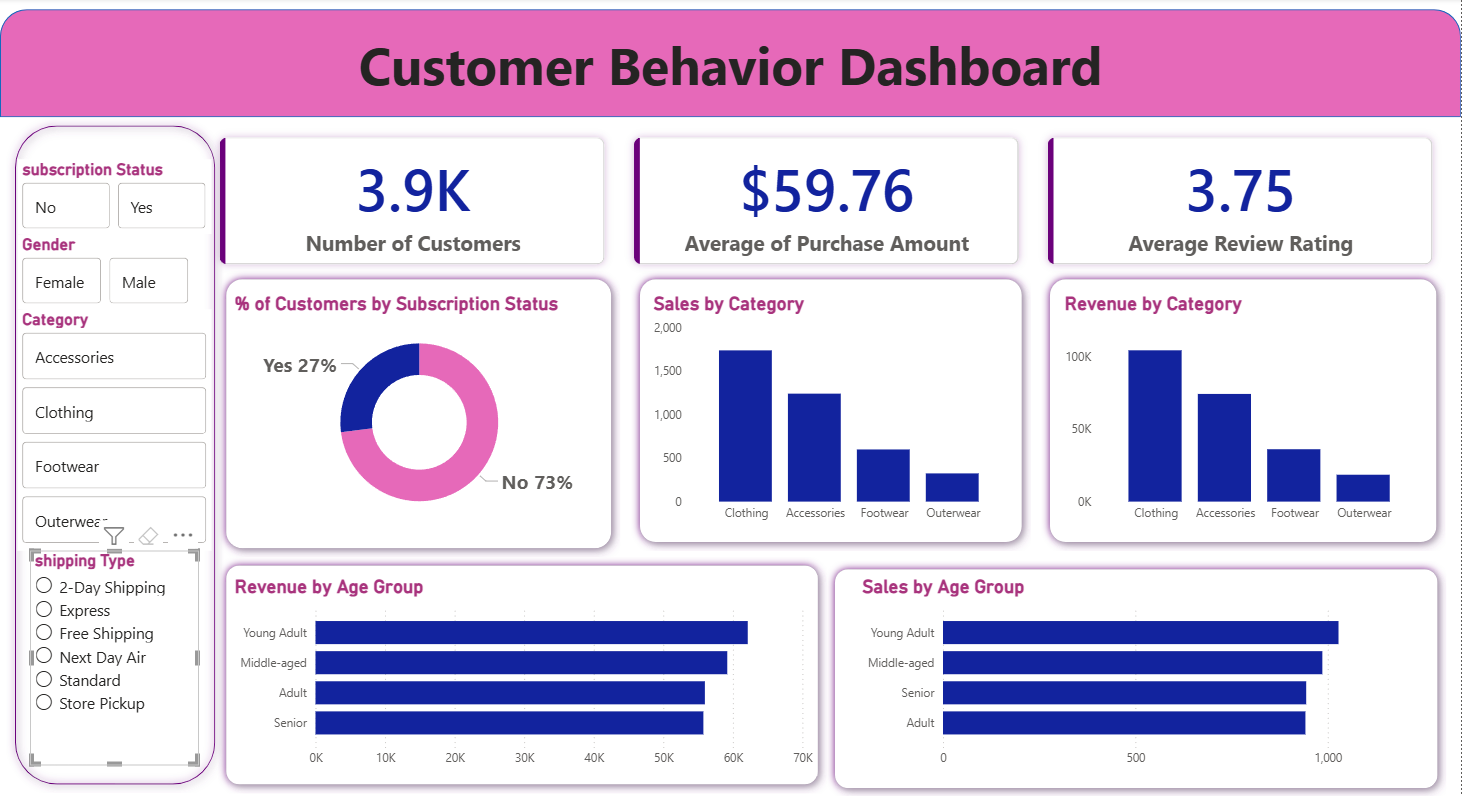

This screenshot's page, from the dashboard's own definition file:
{"tool":"powerbi","page":{"name":"Page 1","canvas":[1500,820],"ordinal":0},"visuals":[{"type":"cardVisual","fields":{"Data":["customer.Number of Customers","customer.Average of Purchase Amount","customer.Average Review Rating"]},"box":[197.8,115.8,1302.5,186.5],"z":0},{"type":"shape","box":[0,11.3,1500.3,111],"z":1000},{"type":"textbox","box":[0,27.3,1500.3,94.9],"z":2000},{"type":"shape","box":[223.5,279.8,413.3,294.3],"z":3000},{"type":"donutChart","title":"% of Customers by Subscription Status","fields":{"Category":["customer.subscription_status"],"Y":["CountNonNull(customer.customer_id)"]},"box":[236.4,302.3,389.2,244.4],"z":4000},{"type":"shape","box":[648.1,279.8,410.1,287.8],"z":5000},{"type":"shape","box":[1069.4,279.8,414.9,287.8],"z":6000},{"type":"clusteredColumnChart","title":"Revenue by Category","fields":{"Y":["Sum(customer.purchase_amount)"],"Category":["customer.category"]},"box":[1088.7,302.3,374.7,244.4],"z":7000},{"type":"clusteredColumnChart","title":"Sales by Category","fields":{"Category":["customer.category"],"Y":["CountNonNull(customer.customer_id)"]},"box":[665.7,302.3,374.7,244.4],"z":8000},{"type":"shape","box":[6.4,122.2,223.5,694.7],"z":9000},{"type":"advancedSlicerVisual","title":"subscription Status","fields":{"Values":["customer.subscription_status"]},"box":[17.7,165.6,199.4,77.2],"z":10000},{"type":"advancedSlicerVisual","title":"Gender","fields":{"Values":["customer.gender"]},"box":[17.7,242.8,180.1,77.2],"z":11000},{"type":"advancedSlicerVisual","title":"Category","fields":{"Values":["customer.category"]},"box":[17.7,320,199.4,247.6],"z":12000},{"type":"listSlicer","title":"shipping Type","fields":{"Values":["customer.shipping_type"]},"box":[455.1,599.8,167.2,220.3],"z":13000},{"type":"shape","box":[223.5,574.1,625.5,242.8],"z":14000},{"type":"clusteredBarChart","title":"Revenue by Age Group","fields":{"Y":["Sum(customer.purchase_amount)"],"Category":["customer.age_group"]},"box":[236.4,593.4,603,205.8],"z":15000},{"type":"shape","box":[849.1,577.3,636.8,242.8],"z":16000},{"type":"clusteredBarChart","title":"Sales by Age Group","fields":{"Y":["CountNonNull(customer.customer_id)"],"Category":["customer.age_group"]},"box":[881.2,593.4,582.1,205.8],"z":17000},{"type":"listSlicer","title":"shipping Type","fields":{"Values":["customer.shipping_type"]},"box":[30.6,567.6,173.7,220.3],"z":17001}]}

Visuals, with their boxes in screenshot pixels (x1, y1, x2, y2), scaled from the page's 1500x820 canvas onto the 1462x796 screenshot:
cardVisual - customer.Number of Customers x customer.Average of Purchase Amount: crop(193, 112, 1461, 293)
shape: crop(0, 11, 1461, 119)
textbox: crop(0, 27, 1461, 119)
shape: crop(218, 272, 621, 557)
"% of Customers by Subscription Status" donutChart: crop(230, 293, 610, 531)
shape: crop(632, 272, 1031, 551)
shape: crop(1042, 272, 1447, 551)
"Revenue by Category" clusteredColumnChart: crop(1061, 293, 1426, 531)
"Sales by Category" clusteredColumnChart: crop(649, 293, 1014, 531)
shape: crop(6, 119, 224, 793)
"subscription Status" advancedSlicerVisual: crop(17, 161, 212, 236)
"Gender" advancedSlicerVisual: crop(17, 236, 193, 311)
"Category" advancedSlicerVisual: crop(17, 311, 212, 551)
"shipping Type" listSlicer: crop(444, 582, 607, 795)
shape: crop(218, 557, 827, 793)
"Revenue by Age Group" clusteredBarChart: crop(230, 576, 818, 776)
shape: crop(828, 560, 1448, 795)
"Sales by Age Group" clusteredBarChart: crop(859, 576, 1426, 776)
"shipping Type" listSlicer: crop(30, 551, 199, 765)
